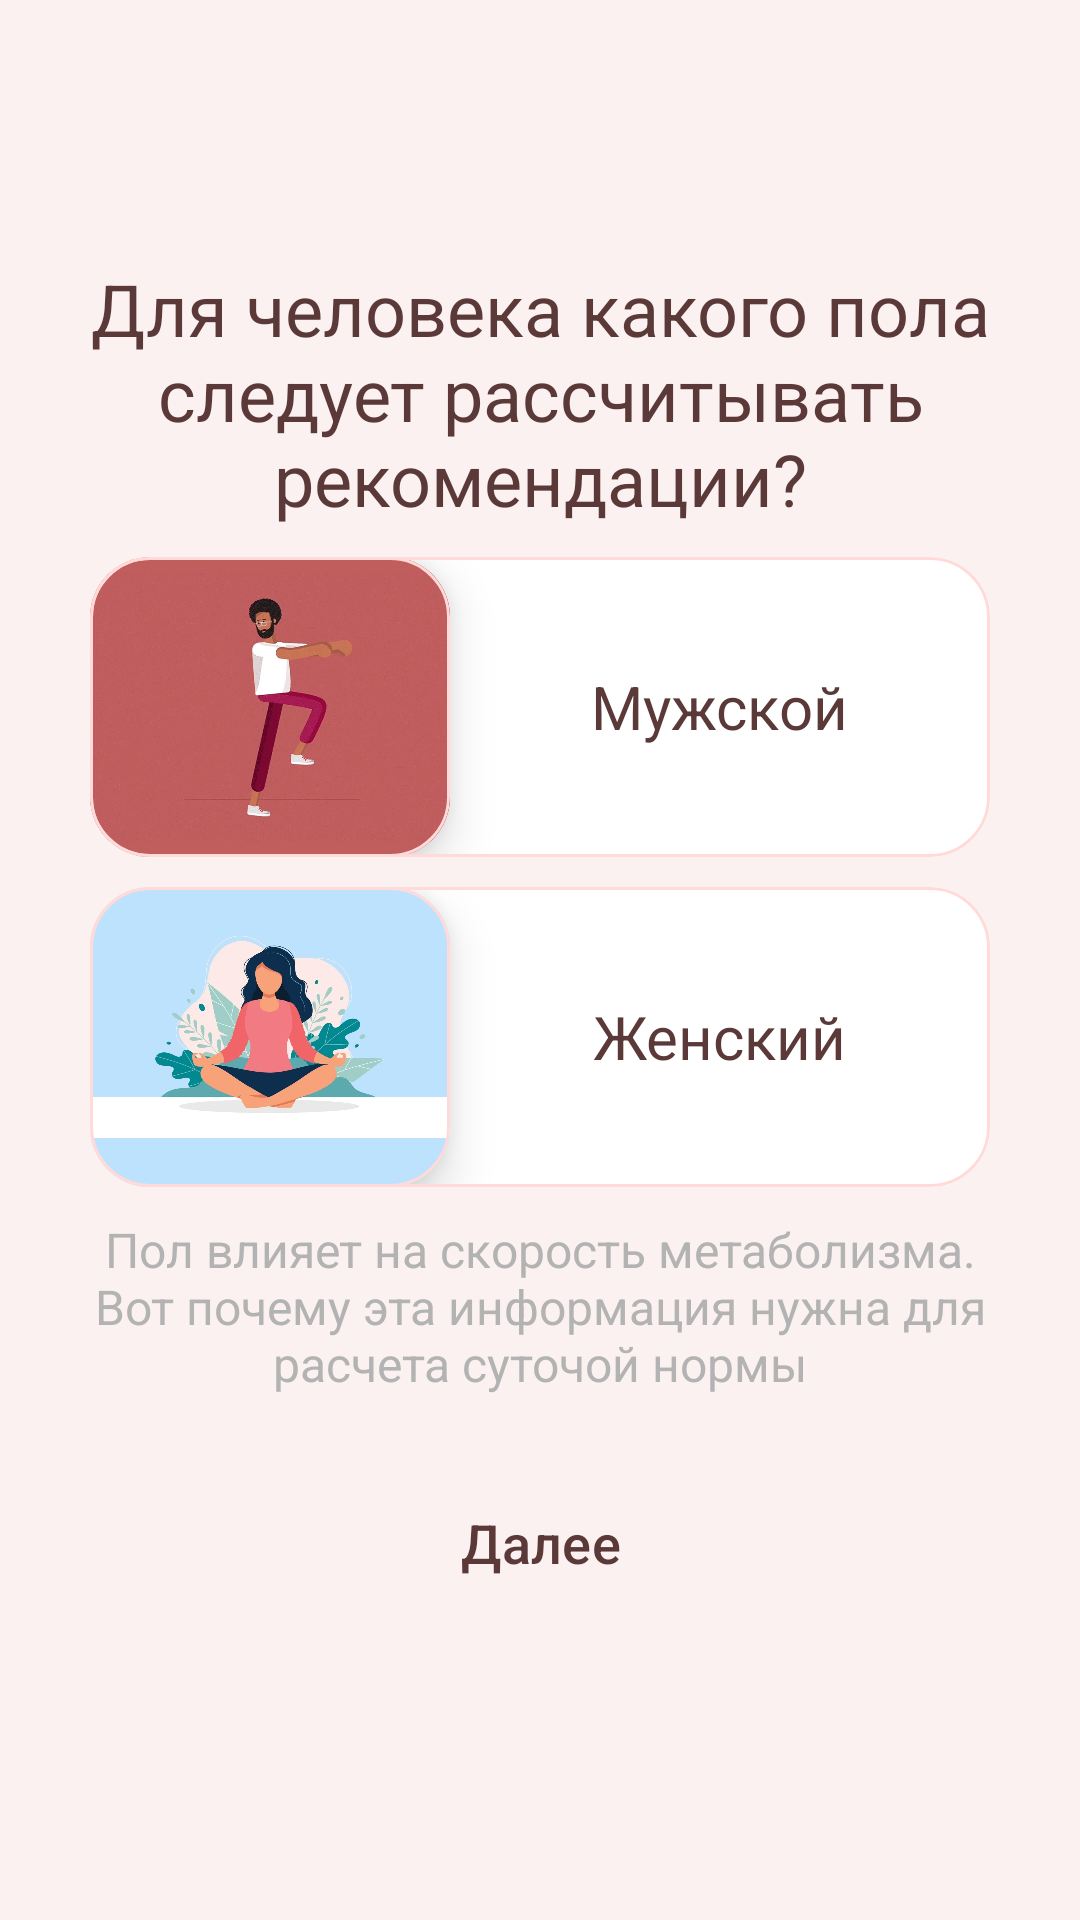

Icon click points for this 1080px×1920px phone screenshot, format (x,y):
female: (271,1037)
male: (270,707)
